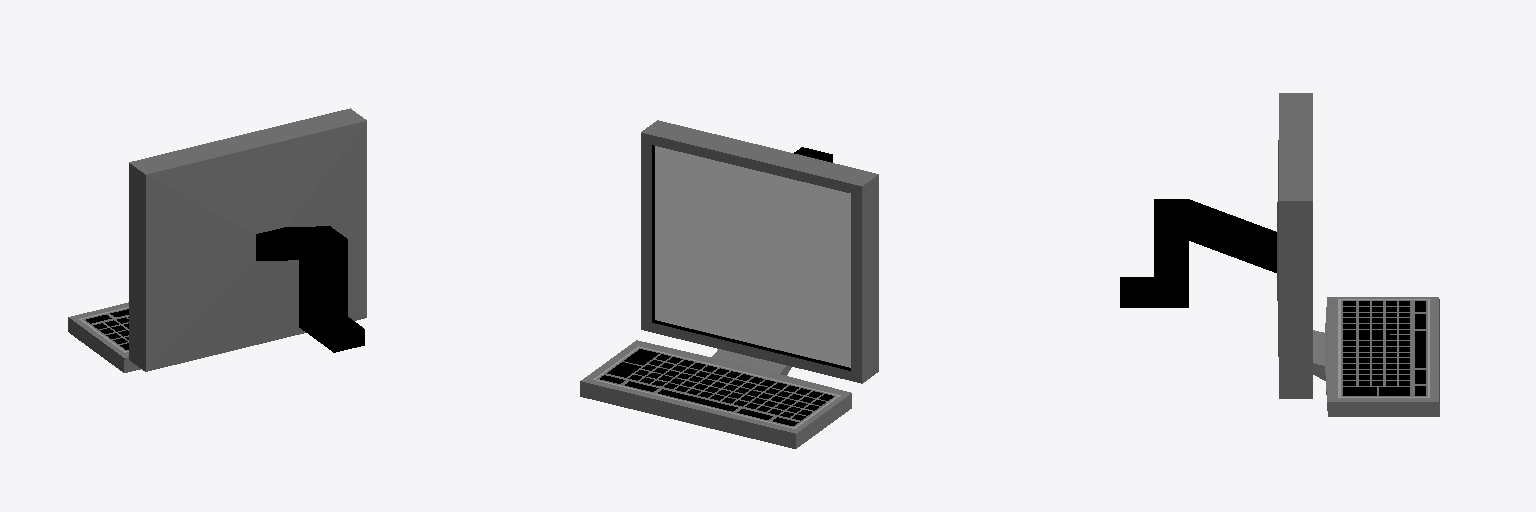
3 views of the same model, side by side, from view 1: azimuth 30°, elevation 25°; view 2: azimuth 150°, elevation 25°; view 3: azimuth 270°, elevation 25° (orthographic).
Visible parts, largest first — view 1: cuboid; view 2: cuboid; view 3: cuboid.
Part boxes in pixels (x1,y1,x2,y2): cuboid: (68, 108, 366, 372); cuboid: (580, 120, 878, 448); cuboid: (1120, 93, 1439, 416).
Bounding box in the file's own units: 7.12 × 6.67 × 8.92.
1 materials, 1 textured.